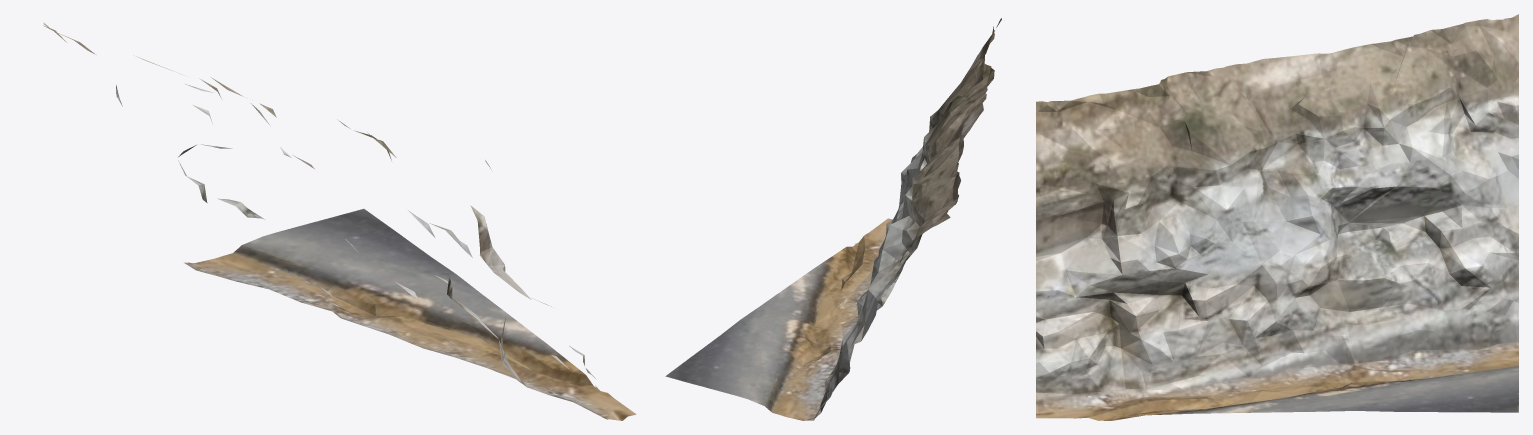
3 views of the same model, side by side, from view 1: azimuth 30°, elevation 25°; view 2: azimuth 150°, elevation 25°; view 3: azimuth 270°, elevation 25° (orthographic). The views are drawn at different scales.
Bounding box in the file's own units: 4.37 × 3.5 × 5.9.
2 materials, 2 textured.
